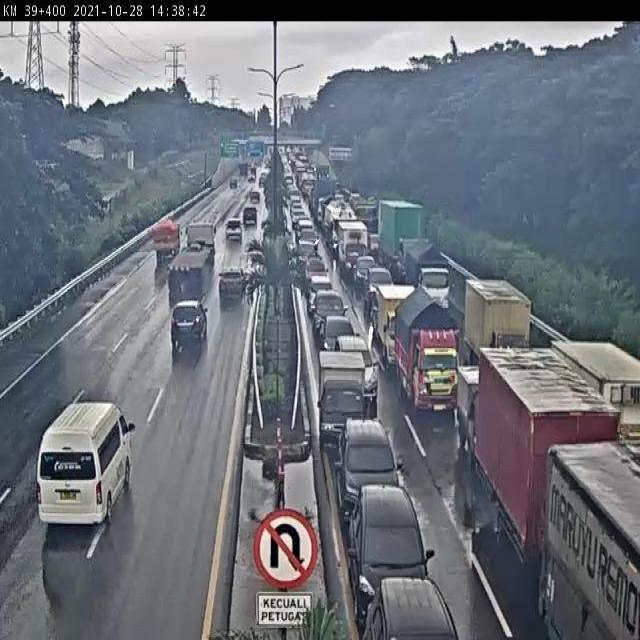big truck: (476, 348, 618, 547), (545, 445, 640, 640), (545, 334, 640, 466), (171, 223, 221, 292), (376, 200, 422, 273)
car: (348, 485, 446, 596), (328, 420, 419, 503), (361, 576, 462, 640), (338, 333, 391, 400), (168, 296, 209, 352), (302, 282, 349, 322), (213, 258, 252, 306), (315, 313, 356, 348), (364, 268, 395, 304), (351, 255, 379, 288), (299, 255, 333, 277), (223, 217, 243, 247), (239, 205, 262, 228)
small bus: (41, 397, 142, 539)
small truck: (386, 291, 461, 418), (465, 272, 534, 357), (315, 348, 370, 439), (374, 283, 418, 365), (455, 363, 487, 444), (401, 243, 457, 289), (334, 224, 373, 273), (148, 218, 183, 266)
